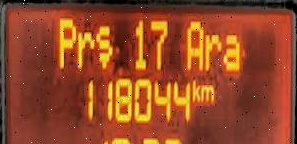0: (132, 77, 151, 122)
1: (133, 18, 145, 69), (86, 78, 93, 121), (105, 78, 112, 120)
4: (152, 79, 171, 123), (171, 79, 190, 123)
7: (149, 18, 168, 71)
8: (113, 76, 132, 122)
X: (184, 19, 203, 71), (57, 16, 76, 68), (94, 24, 111, 69), (221, 33, 240, 72), (75, 31, 94, 69), (204, 32, 221, 72), (199, 82, 213, 102), (191, 79, 200, 102)
